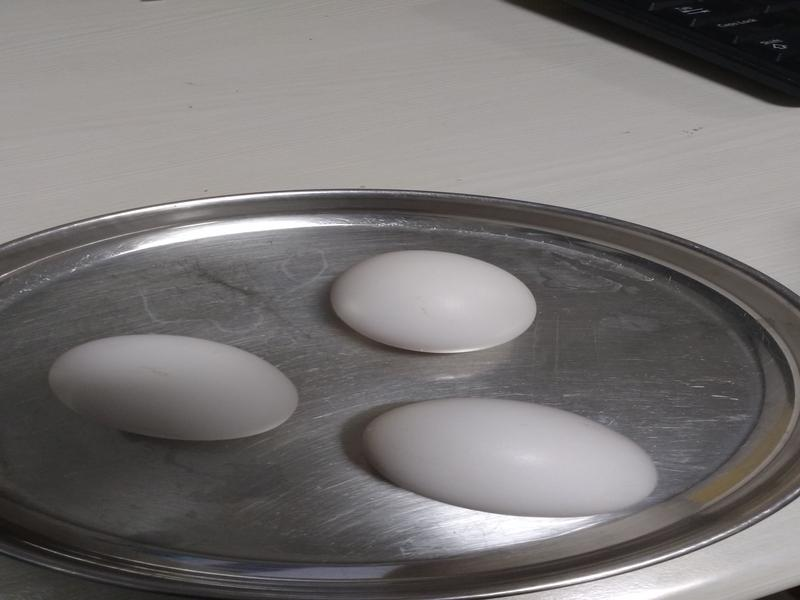egg: (52, 332, 303, 436)
